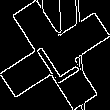L_NW: (28, 26, 82, 84)
